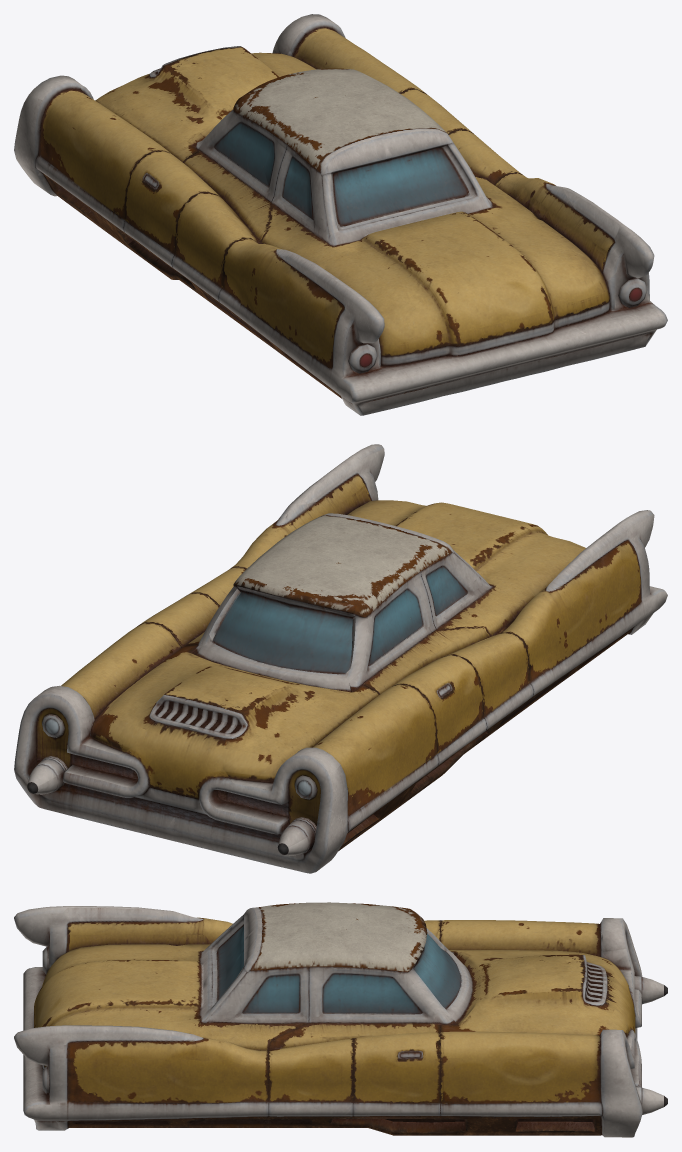
3 views of the same model, one above another, from view 1: azimuth 30°, elevation 25°; view 2: azimuth 150°, elevation 25°; view 3: azimuth 270°, elevation 25° (orthographic). The views are drawn at different scales.
Parts seen in each view (by area): view 1: aaaafalloot; view 2: aaaafalloot; view 3: aaaafalloot.
Boxes of the visible parts, box(x1,y1,x2,y2) form: aaaafalloot: box(14, 14, 667, 415); aaaafalloot: box(14, 444, 667, 873); aaaafalloot: box(14, 902, 667, 1137).
Size of the model in its own units: 564 by 292 by 1117.
1 material, 1 textured.
